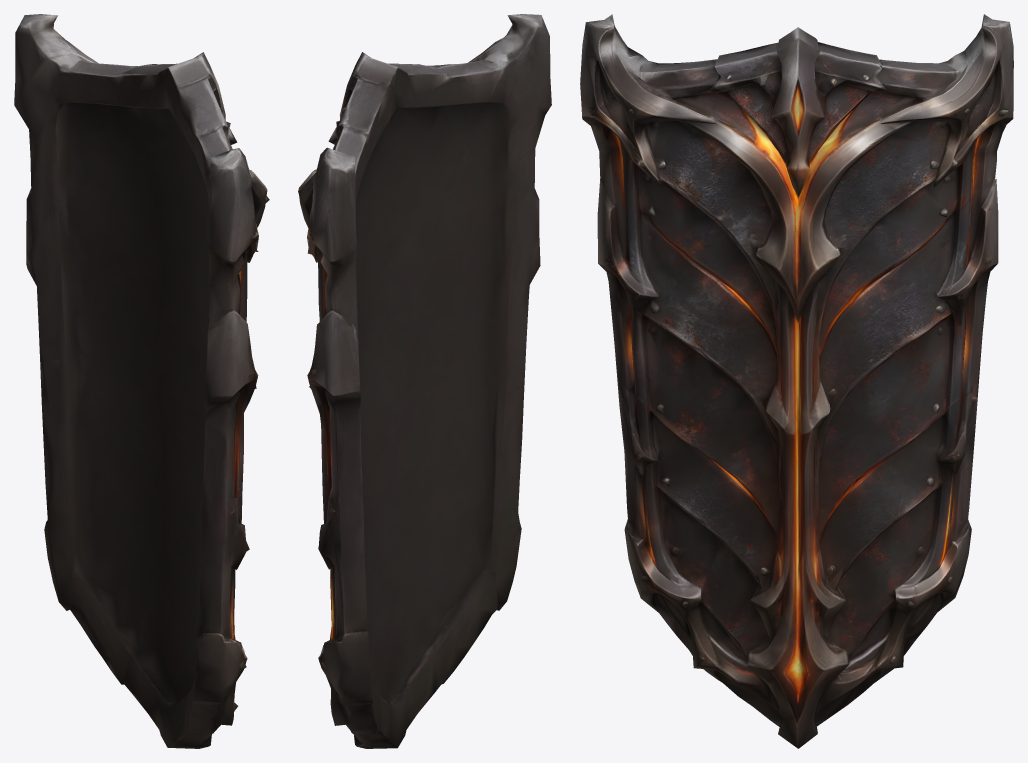
Rendered from s_tower.glb.
3 renders of one model, left to right at view 1: azimuth 30°, elevation 25°; view 2: azimuth 150°, elevation 25°; view 3: azimuth 270°, elevation 25°, orthographic.
Visible parts, largest first — view 1: tripo_node_dc30727b-0631-44ed-a31c-8a53ad4abd4d; view 2: tripo_node_dc30727b-0631-44ed-a31c-8a53ad4abd4d; view 3: tripo_node_dc30727b-0631-44ed-a31c-8a53ad4abd4d.
Part boxes in pixels (bbox=[...]): tripo_node_dc30727b-0631-44ed-a31c-8a53ad4abd4d: bbox=[14, 14, 269, 748]; tripo_node_dc30727b-0631-44ed-a31c-8a53ad4abd4d: bbox=[298, 14, 551, 748]; tripo_node_dc30727b-0631-44ed-a31c-8a53ad4abd4d: bbox=[580, 14, 1013, 748].
Bounding box in the file's own units: 0.1799 × 1 × 0.5548.
1 material, 1 textured.
